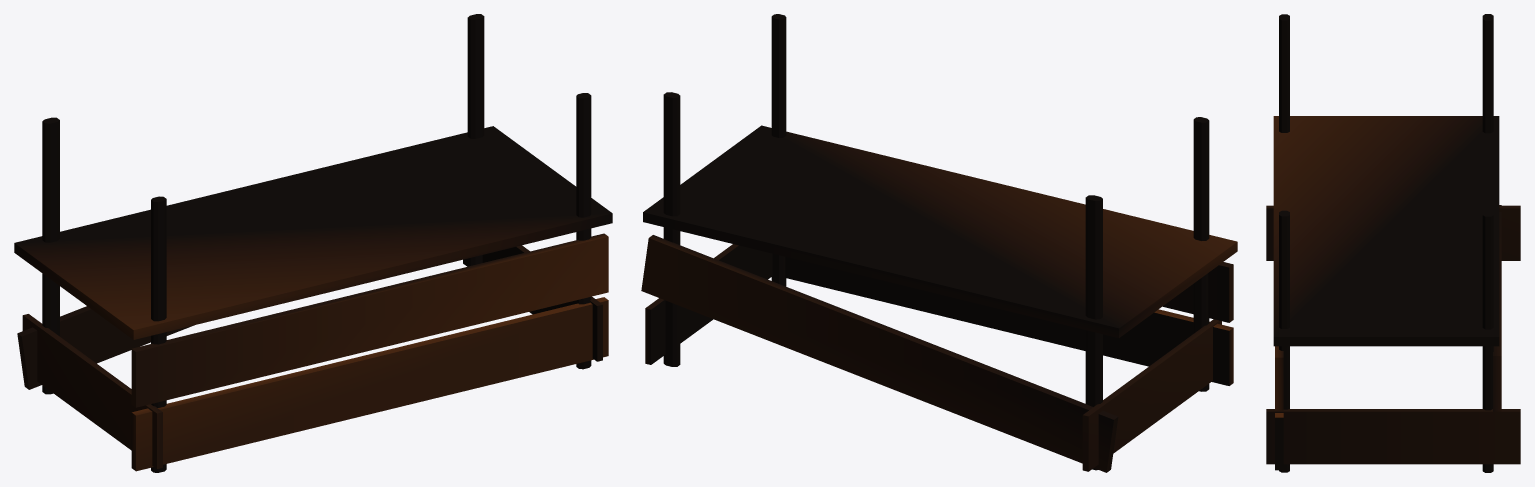
File: Extension02.fbx
The picture shows the model from 3 angles, left to right: view 1: azimuth 30°, elevation 25°; view 2: azimuth 150°, elevation 25°; view 3: azimuth 270°, elevation 25°; orthographic projection. The views are drawn at different scales.
Parts seen in each view (by area): view 1: pCube21; view 2: pCube21; view 3: pCube21.
Part boxes in pixels (x1,y1,x2,y2): pCube21: (14, 14, 612, 472); pCube21: (641, 14, 1237, 472); pCube21: (1266, 14, 1520, 472).
Bounding box in the file's own units: 901 × 486 × 437.
